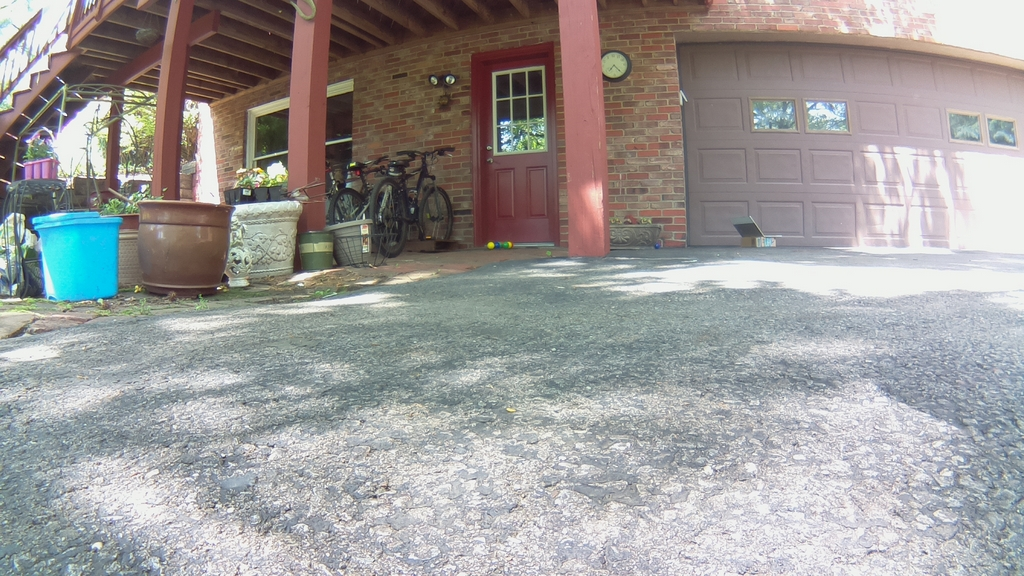ball: (487, 241, 493, 249)
